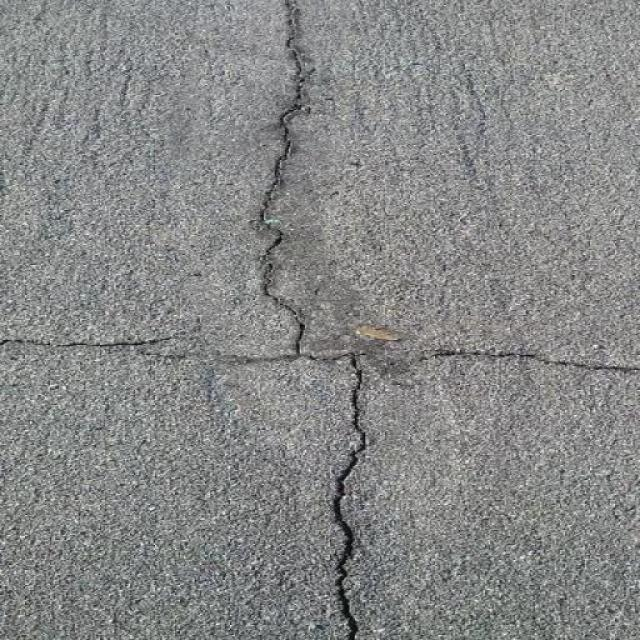moderate crack: (254, 8, 338, 623), (318, 342, 414, 640), (11, 338, 635, 374), (215, 347, 261, 640), (452, 65, 497, 192), (262, 241, 306, 356), (364, 45, 453, 90), (254, 154, 290, 246), (0, 332, 189, 349), (278, 0, 306, 114), (82, 105, 109, 163), (254, 113, 296, 144), (200, 367, 224, 415), (618, 493, 638, 516), (107, 608, 126, 631)
severe crack: (0, 368, 216, 640), (332, 569, 357, 635), (328, 460, 352, 517), (294, 312, 306, 352), (313, 88, 337, 108), (387, 375, 420, 389), (2, 347, 23, 363), (348, 352, 361, 376), (309, 279, 321, 298), (302, 103, 312, 114)
